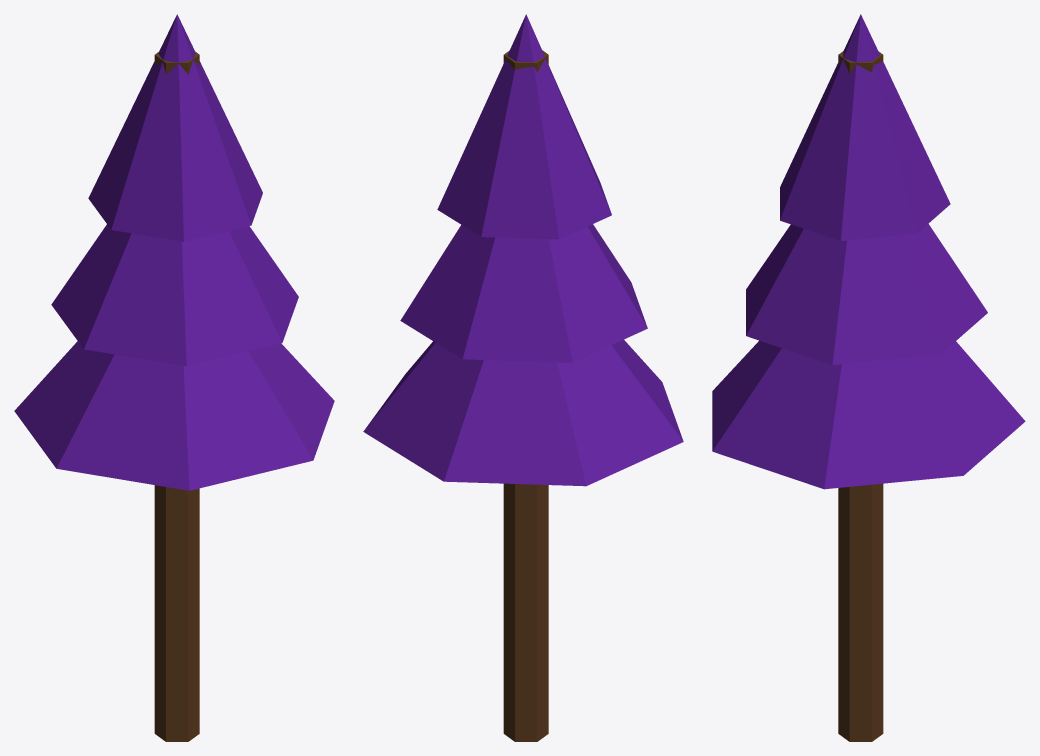
File: Prop_OR_LedgerTree_15.glb
3 renders of one model, left to right at view 1: azimuth 30°, elevation 25°; view 2: azimuth 150°, elevation 25°; view 3: azimuth 270°, elevation 25°, orthographic.
Visible parts, largest first — view 1: Prop_OR_LedgerTree_15; view 2: Prop_OR_LedgerTree_15; view 3: Prop_OR_LedgerTree_15.
Boxes of the visible parts, x1,y1,x2,y2 form: Prop_OR_LedgerTree_15: (14, 14, 334, 741); Prop_OR_LedgerTree_15: (363, 14, 683, 741); Prop_OR_LedgerTree_15: (712, 14, 1025, 741).
Bounding box in the file's own units: 2.14 × 5.3 × 2.09.
